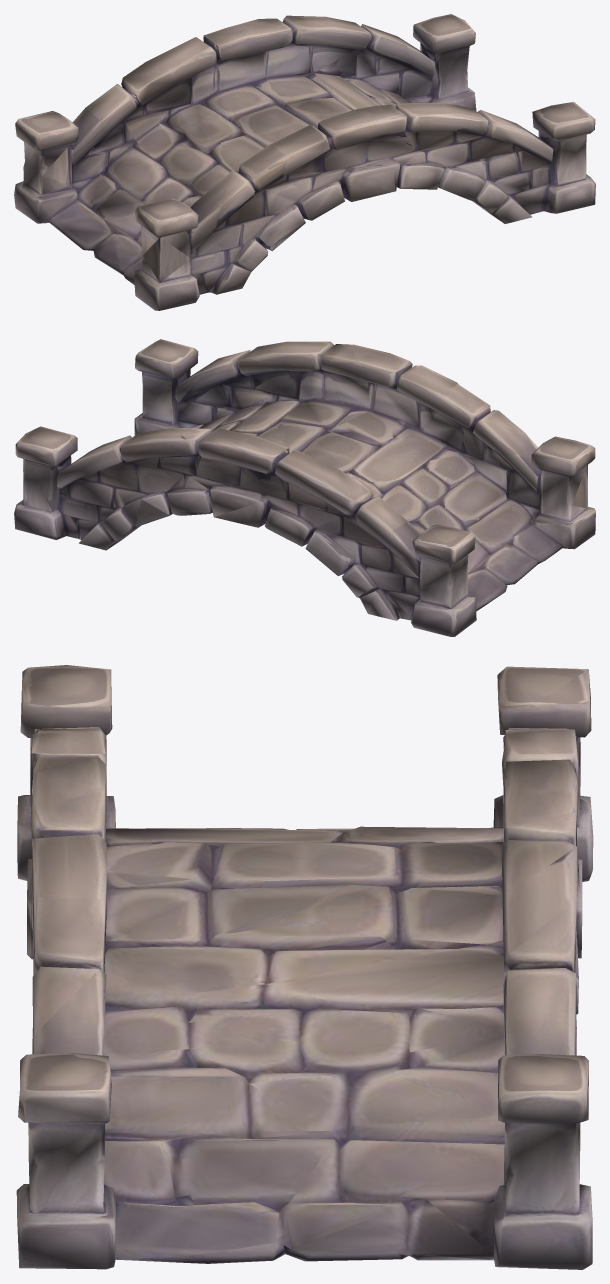
The model's file is bridge.glb.
3 renders of one model, top to bottom at view 1: azimuth 30°, elevation 25°; view 2: azimuth 150°, elevation 25°; view 3: azimuth 270°, elevation 25°, orthographic. The views are drawn at different scales.
Parts seen in each view (by area): view 1: bridge; view 2: bridge; view 3: bridge.
Boxes of the visible parts, x1,y1,x2,y2 form: bridge: [14, 14, 595, 310]; bridge: [14, 339, 595, 636]; bridge: [16, 665, 593, 1269].
Size of the model in its own units: 7.5 by 2.19 by 4.25.
Materials: 1 (1 with a texture image).
